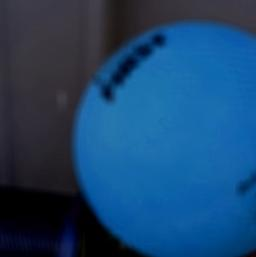algae: (65, 16, 256, 257)
